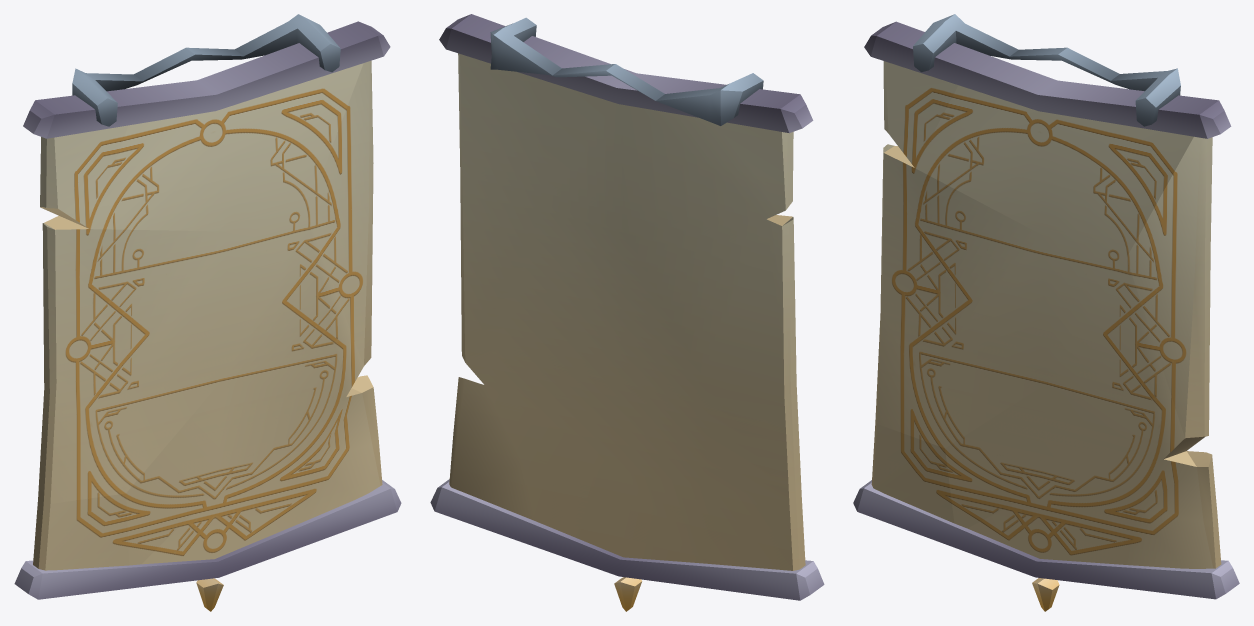
File: MODEL_Tapestry-base.fbx
3 renders of one model, left to right at view 1: azimuth 30°, elevation 25°; view 2: azimuth 150°, elevation 25°; view 3: azimuth 330°, elevation 25°, orthographic.
Visible parts, largest first — view 1: Tapestry; view 2: Tapestry; view 3: Tapestry.
Boxes of the visible parts, x1=… form: Tapestry: x1=14, y1=14, x2=401, y2=611; Tapestry: x1=430, y1=14, x2=824, y2=611; Tapestry: x1=853, y1=14, x2=1239, y2=611.
Bounding box in the file's own units: 88.8 × 126 × 15.4.
1 material, 1 textured.
